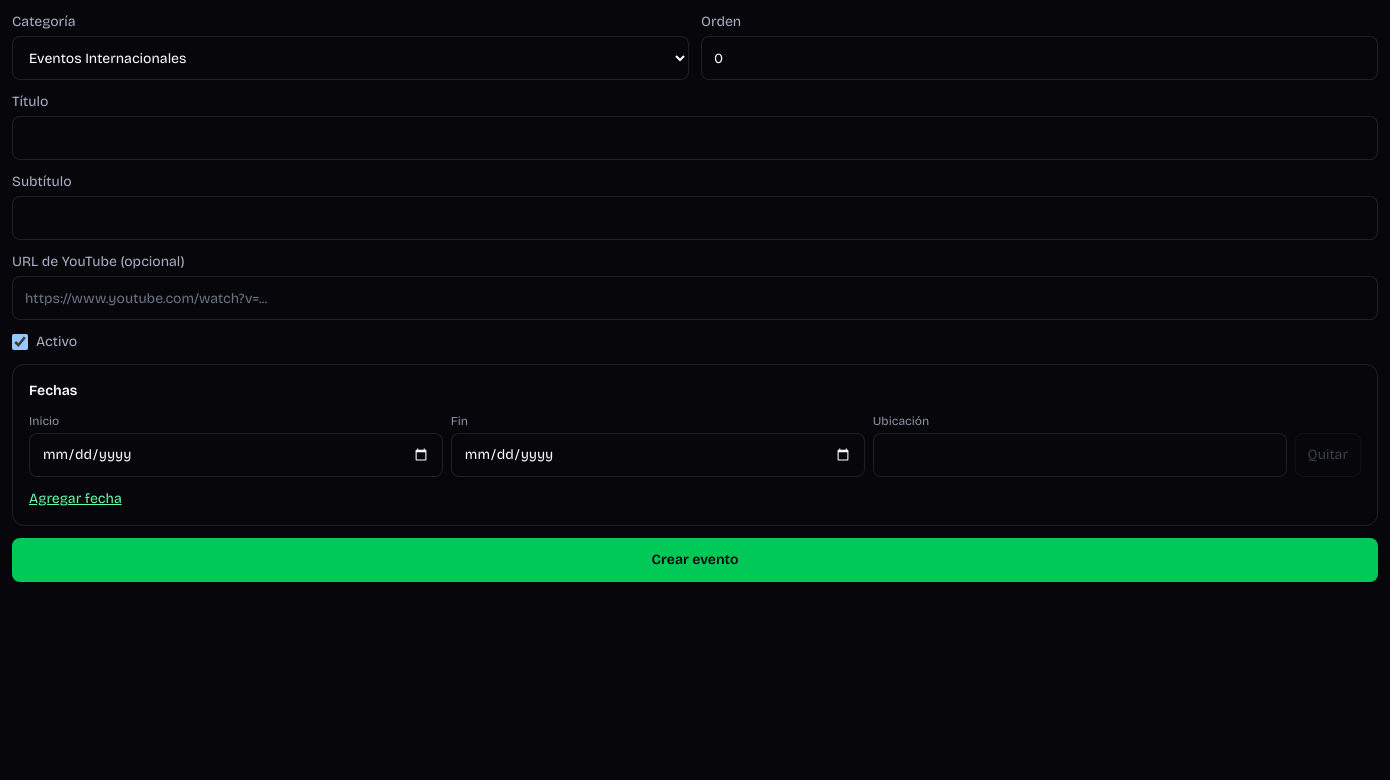
it: EventoForm › agrega una fila nueva al hacer click en 'Agregar fecha'
Click the button "Agregar fecha".
click(75, 499)  # box x1=29 y1=489 x2=122 y2=509
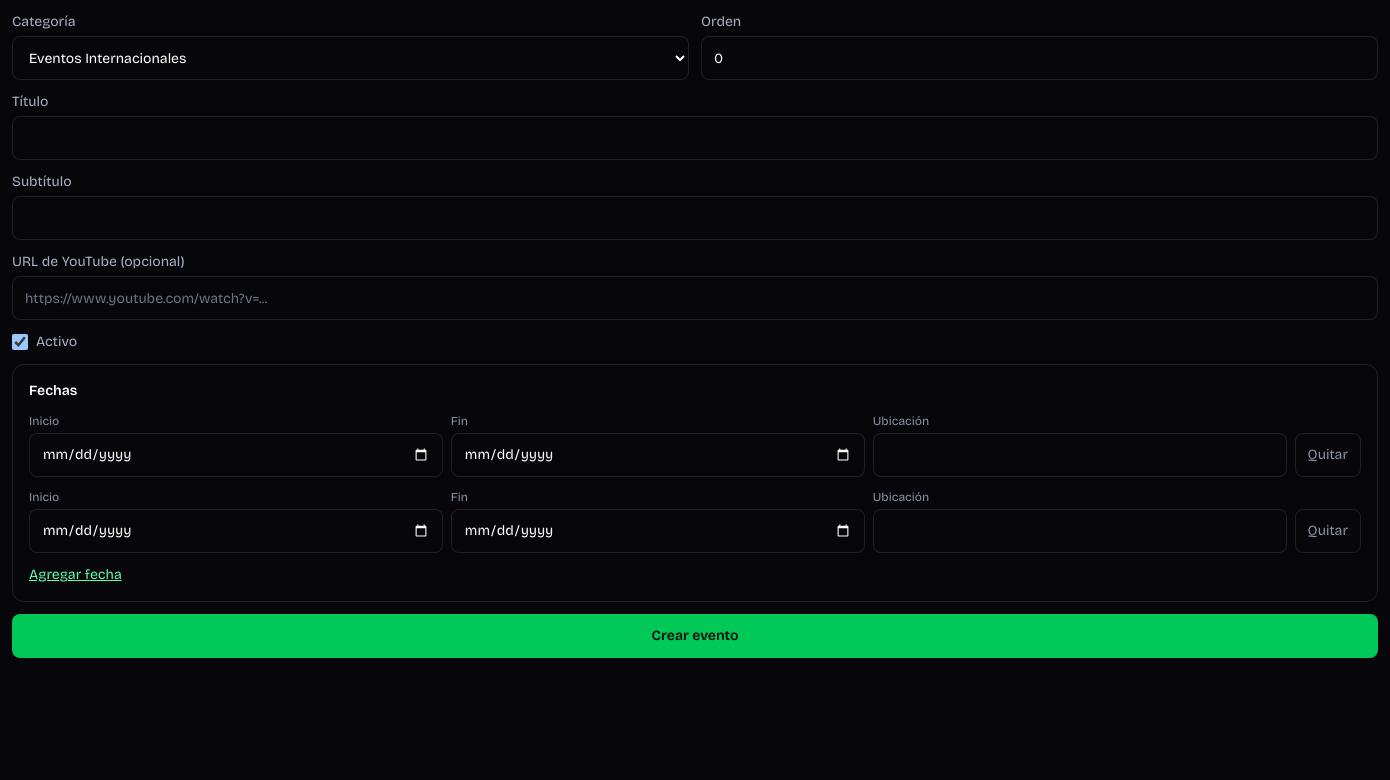
Expected: the number of date fields labelled "Inicio" is 2, x1=29 y1=433 x2=443 y2=477; x1=29 y1=509 x2=443 y2=553
Expected: the 1st button "Quitar" is enabled, x1=1295 y1=433 x2=1361 y2=477
